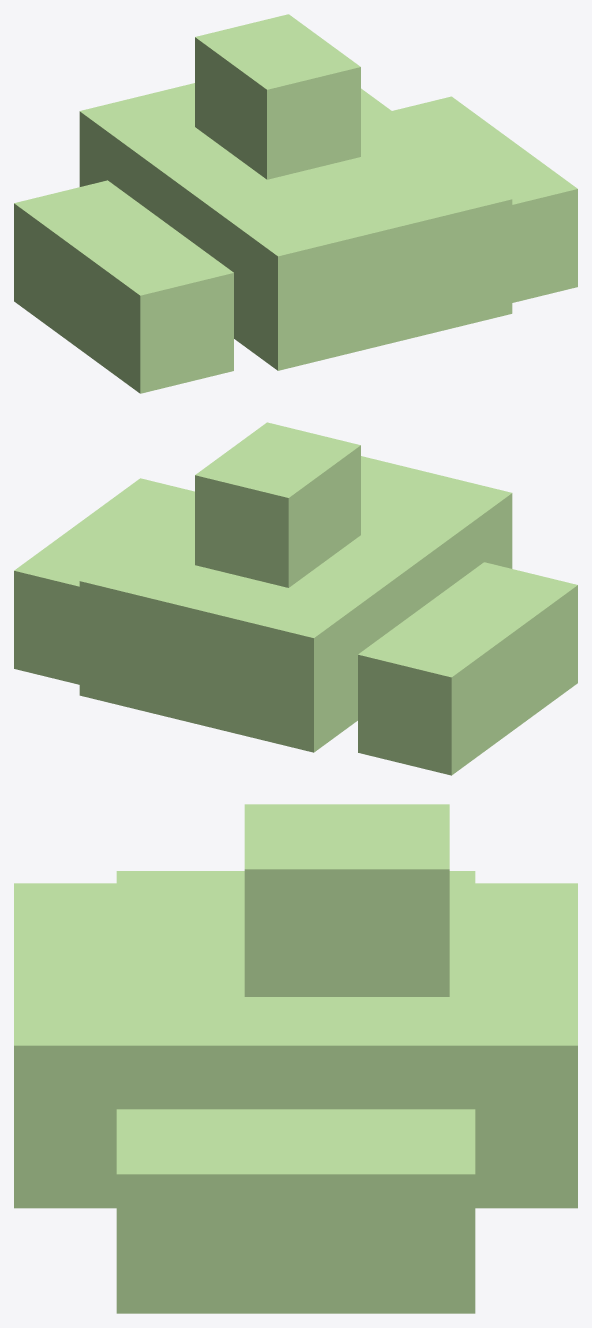
File: scout.gltf
The picture shows the model from 3 angles, top to bottom: view 1: azimuth 30°, elevation 25°; view 2: azimuth 150°, elevation 25°; view 3: azimuth 270°, elevation 25°; orthographic projection. The views are drawn at different scales.
Visible parts, largest first — view 1: scout; view 2: scout; view 3: scout.
Boxes of the visible parts, x1,y1,x2,y2 form: scout: [14, 14, 577, 393]; scout: [14, 422, 577, 775]; scout: [14, 804, 577, 1313].
Bounding box in the file's own units: 1.4 × 0.7 × 1.1.
